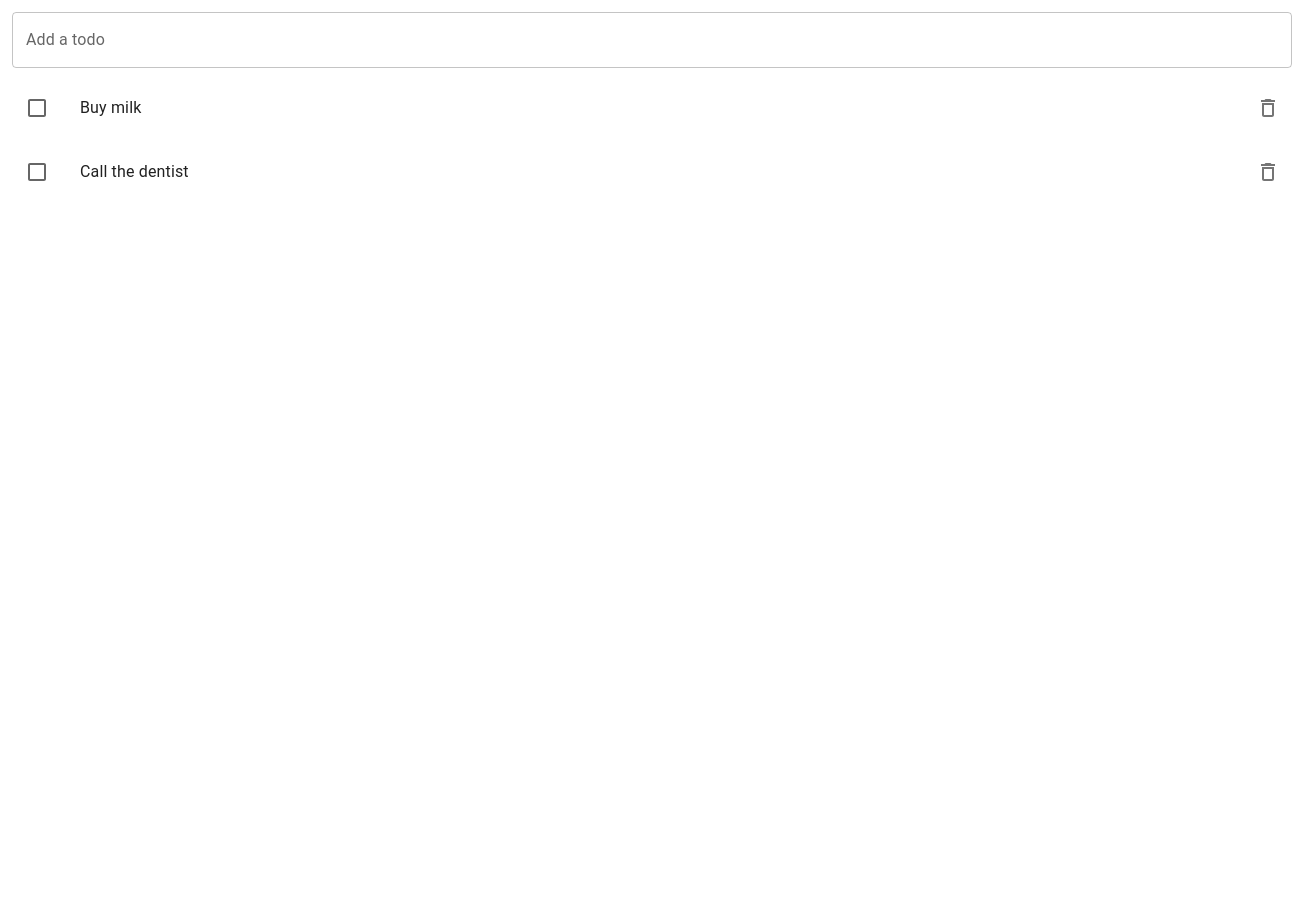
Test: Undo tapped while the delete is still saving leaves the todo restored
Click the button named "Delete Call the dentist" at (1268, 172), box [1248,152,1288,192]
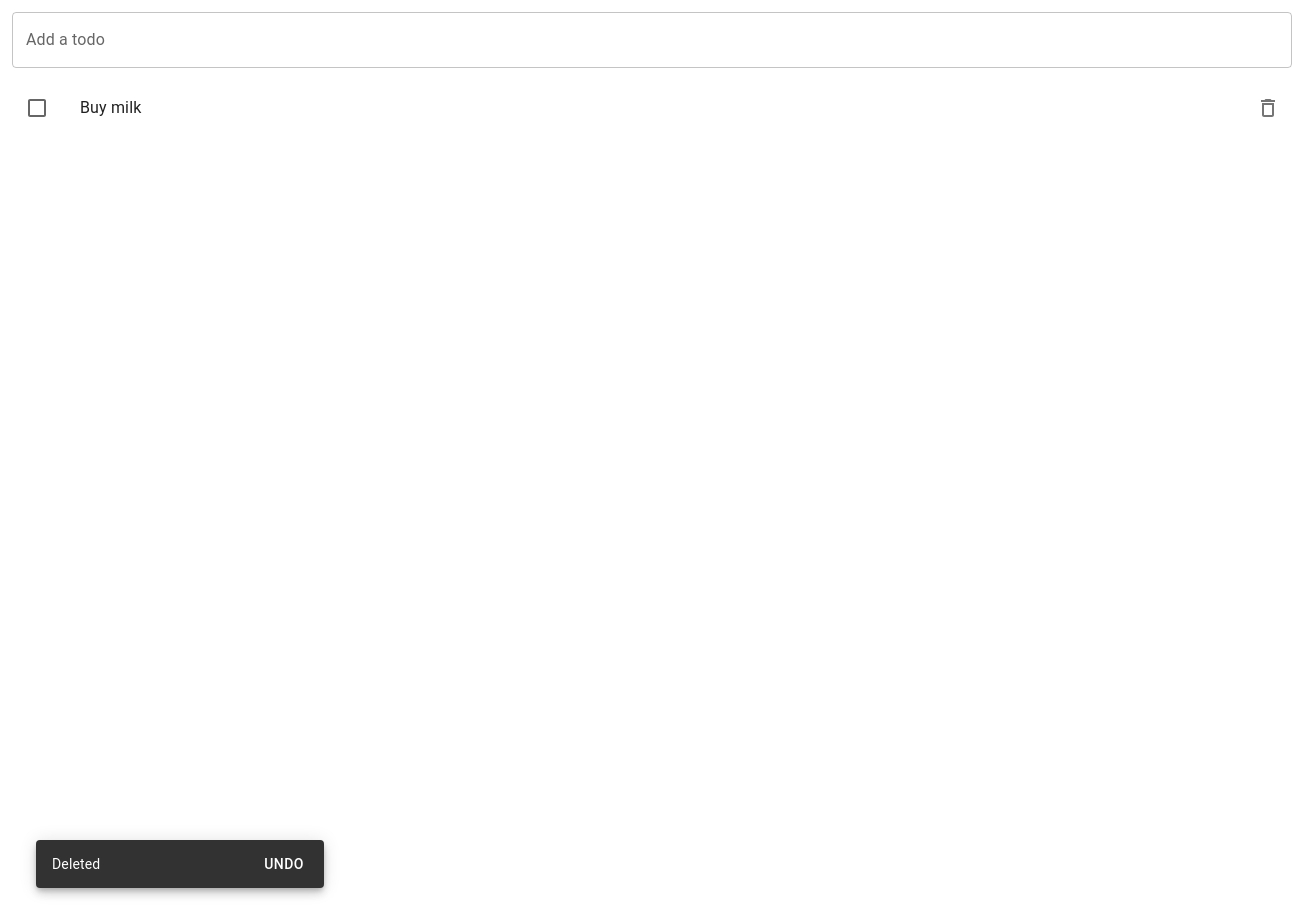
Click the button "Undo" at (284, 864), box [252,846,316,882]
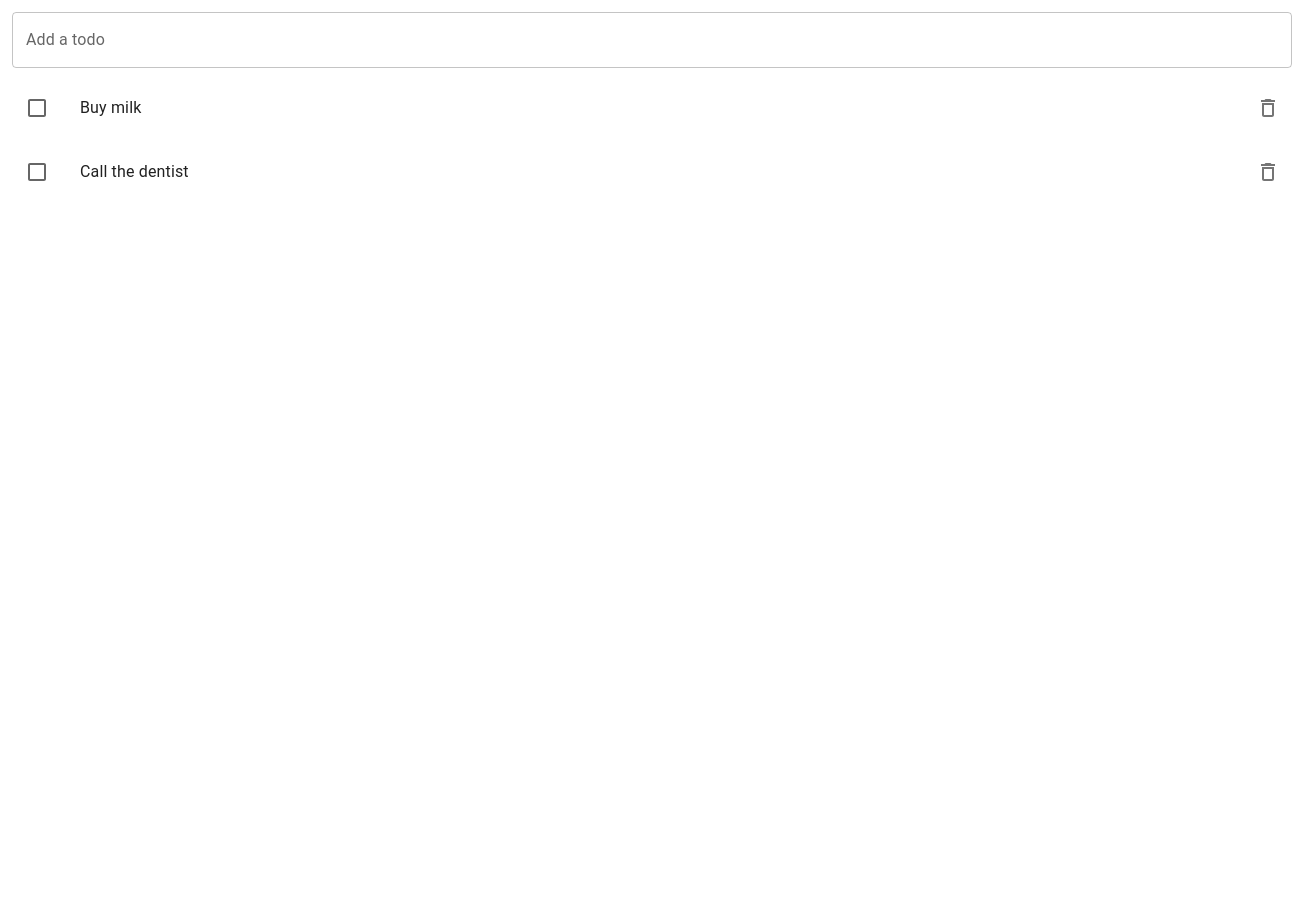
Expected: the list items read "Buy milk", "Call the dentist", in this order, [12,76,1292,140]; [12,140,1292,204]
